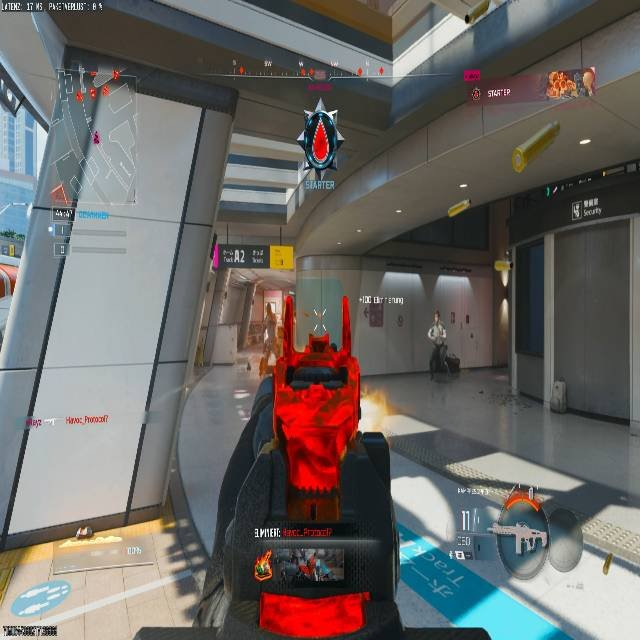head: (272, 331, 361, 481), (306, 329, 336, 357)
player: (207, 326, 413, 638), (423, 313, 461, 415), (297, 101, 340, 179), (425, 309, 448, 383)
